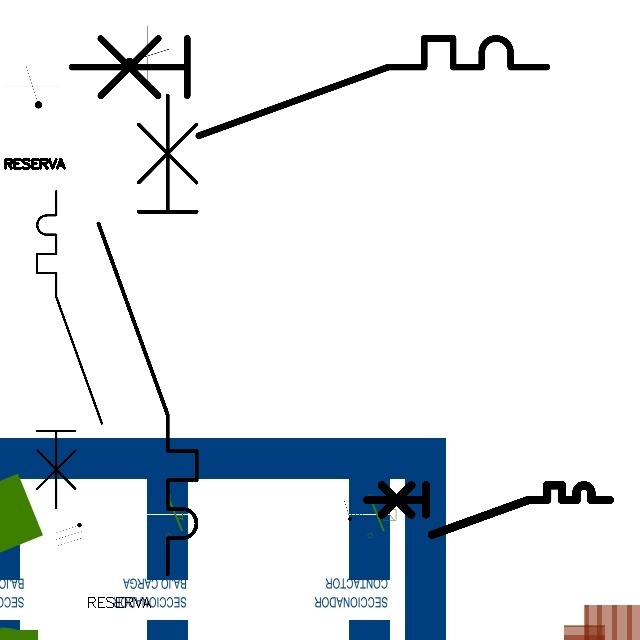interruptor_termomagnetico: (86, 83, 209, 587), (59, 26, 559, 148), (29, 183, 110, 516), (360, 479, 615, 541)
